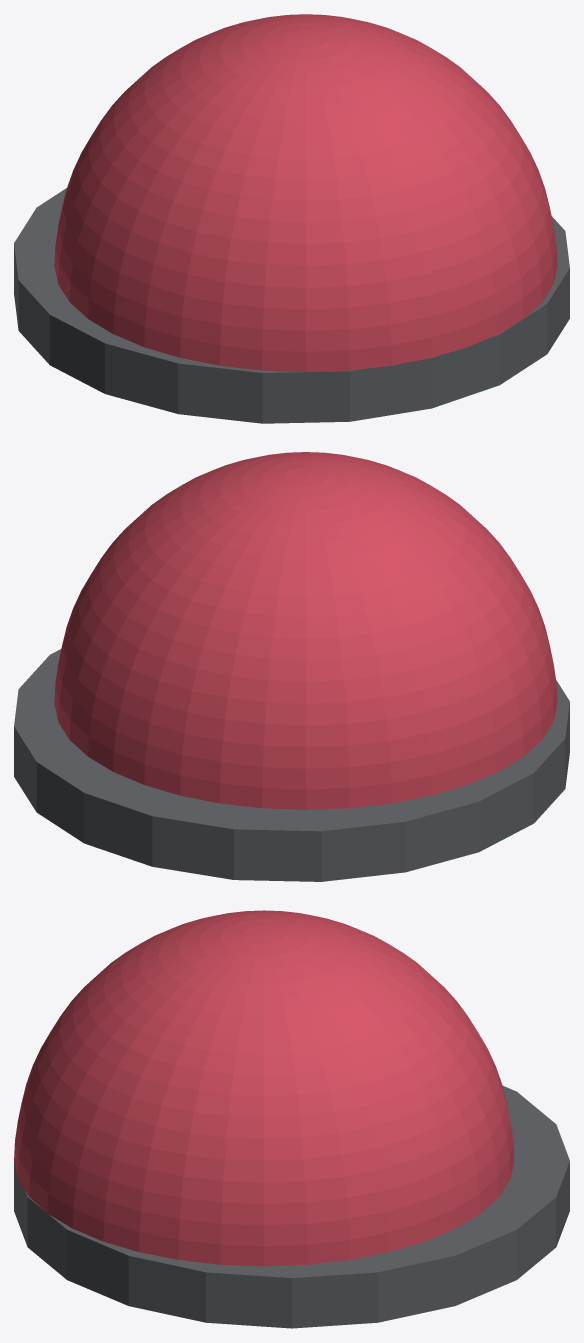
Rendered from green-button.glb.
3 views of the same model, one above another, from view 1: azimuth 30°, elevation 25°; view 2: azimuth 150°, elevation 25°; view 3: azimuth 270°, elevation 25° (orthographic).
Visible parts, largest first — view 1: Mesh_Mesh_head_geo.001_lambert2SG.001; view 2: Mesh_Mesh_head_geo.001_lambert2SG.001; view 3: Mesh_Mesh_head_geo.001_lambert2SG.001.
Part boxes in pixels (left/top/right/bottom): Mesh_Mesh_head_geo.001_lambert2SG.001: left=14, top=14, right=569, bottom=423; Mesh_Mesh_head_geo.001_lambert2SG.001: left=14, top=452, right=569, bottom=881; Mesh_Mesh_head_geo.001_lambert2SG.001: left=14, top=910, right=569, bottom=1328.
Size of the model in its own units: 20 by 11 by 20.
